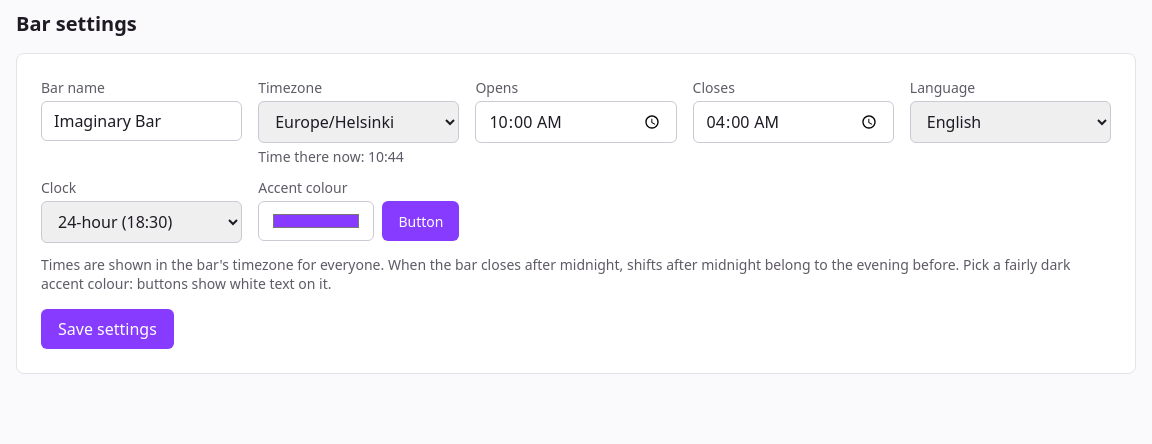
Test: shows the backend error
Click the button "Save settings". click: (107, 329)
box: [41,309,174,349]
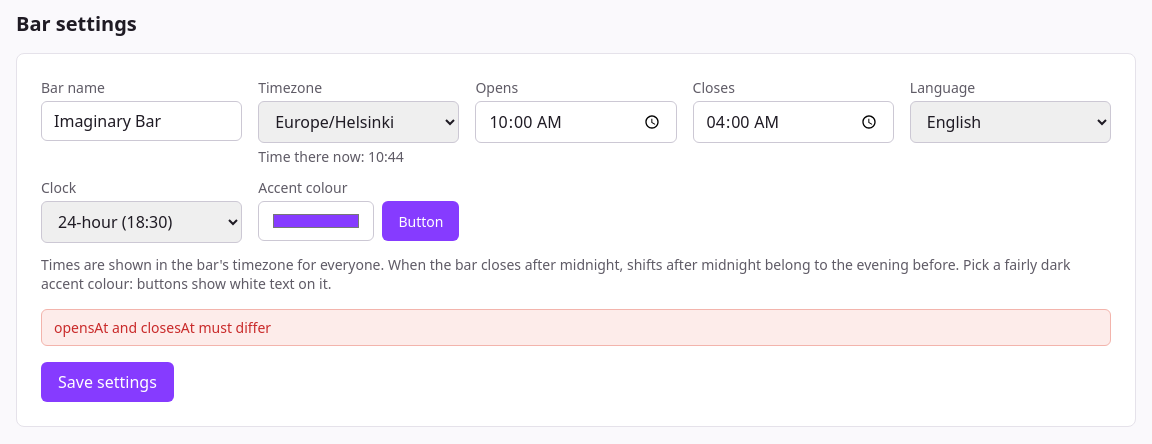
Now the message shows "must differ", box [54,318,271,337]
